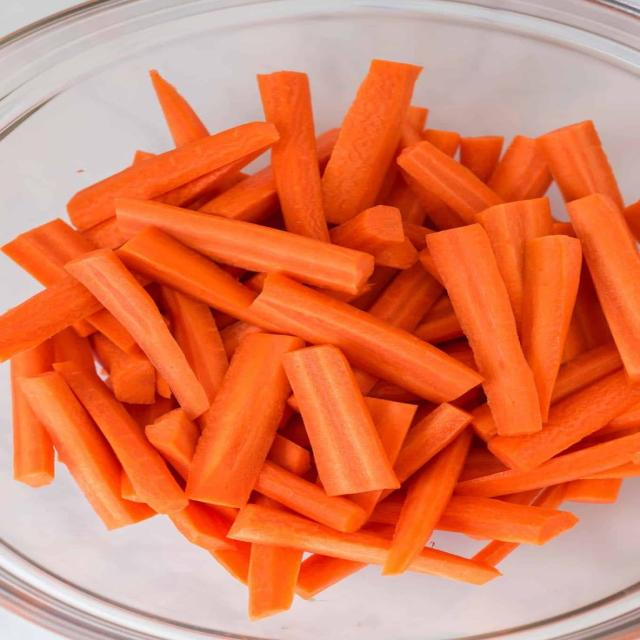carrot: (251, 274, 481, 401), (116, 199, 373, 293), (427, 225, 541, 435), (66, 250, 208, 417), (67, 123, 278, 229), (19, 372, 154, 529), (187, 334, 304, 506), (54, 362, 187, 513), (283, 346, 398, 495), (322, 60, 421, 224), (489, 371, 639, 470), (567, 194, 639, 380), (117, 228, 255, 322), (383, 431, 472, 575), (258, 72, 328, 241), (457, 434, 639, 496), (522, 236, 581, 421), (477, 198, 552, 331), (229, 505, 389, 564), (0, 277, 102, 361), (398, 142, 502, 222), (254, 461, 366, 532), (435, 490, 577, 545), (162, 287, 228, 403), (538, 121, 623, 208), (154, 150, 262, 210), (2, 219, 95, 287), (11, 341, 54, 487), (2, 219, 95, 286), (154, 151, 261, 209), (394, 404, 471, 483), (368, 264, 442, 332), (378, 106, 427, 203), (150, 70, 208, 147), (93, 334, 156, 404), (200, 167, 279, 222), (487, 136, 552, 202), (248, 544, 303, 620), (552, 345, 622, 404), (552, 344, 622, 402), (330, 206, 405, 257), (145, 409, 199, 478), (146, 409, 199, 479), (402, 172, 465, 229), (169, 501, 237, 552), (365, 398, 416, 465), (574, 265, 613, 349), (296, 554, 366, 599), (414, 295, 463, 344), (384, 171, 426, 224), (460, 136, 504, 182), (351, 267, 397, 309), (52, 328, 95, 372), (268, 433, 311, 476), (211, 541, 251, 584), (220, 321, 263, 360), (576, 422, 639, 447), (127, 396, 176, 428), (460, 448, 506, 481), (374, 237, 418, 269), (565, 479, 622, 503), (585, 454, 639, 479), (398, 105, 428, 150), (562, 314, 586, 363), (440, 339, 477, 370), (474, 541, 519, 566), (369, 381, 420, 403), (280, 413, 310, 450), (419, 234, 441, 283), (420, 130, 459, 157), (421, 129, 460, 156), (318, 284, 370, 303), (472, 403, 497, 441), (403, 222, 435, 250), (610, 404, 639, 429), (121, 470, 143, 502), (497, 489, 539, 505), (623, 200, 639, 239), (155, 372, 172, 398), (74, 320, 97, 337), (552, 222, 575, 237), (132, 150, 154, 164)
